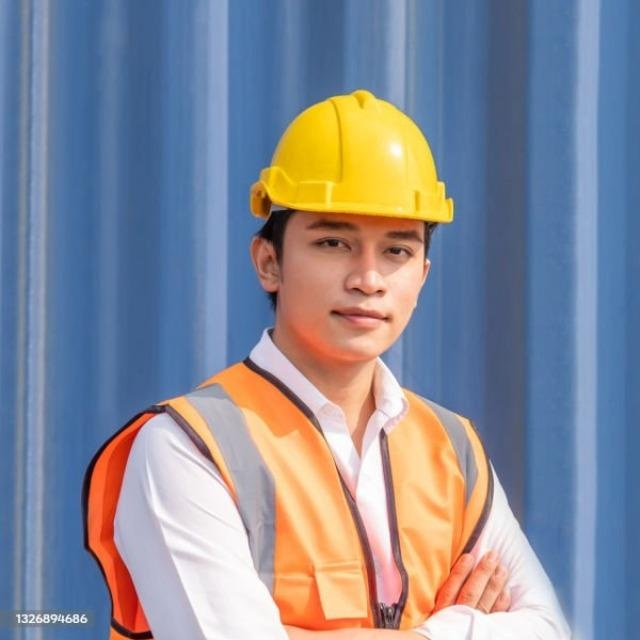Con_Casco: (251, 87, 454, 359)
Con_Chaleco: (85, 365, 500, 640)
